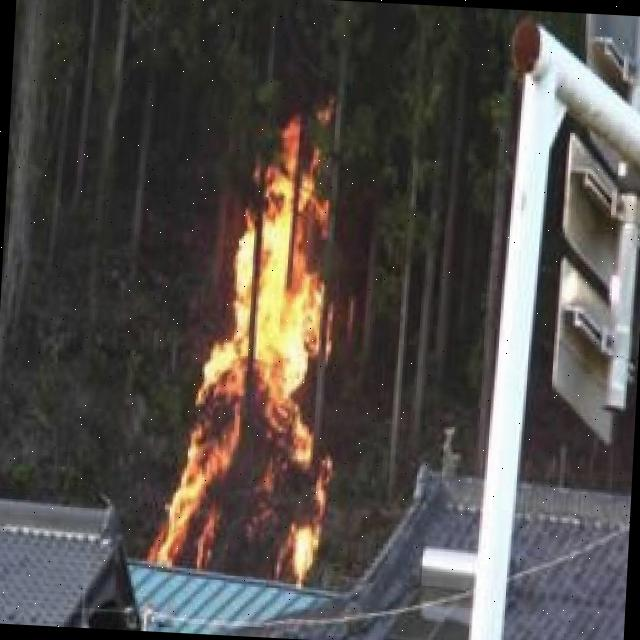fire: (143, 174, 349, 588)
